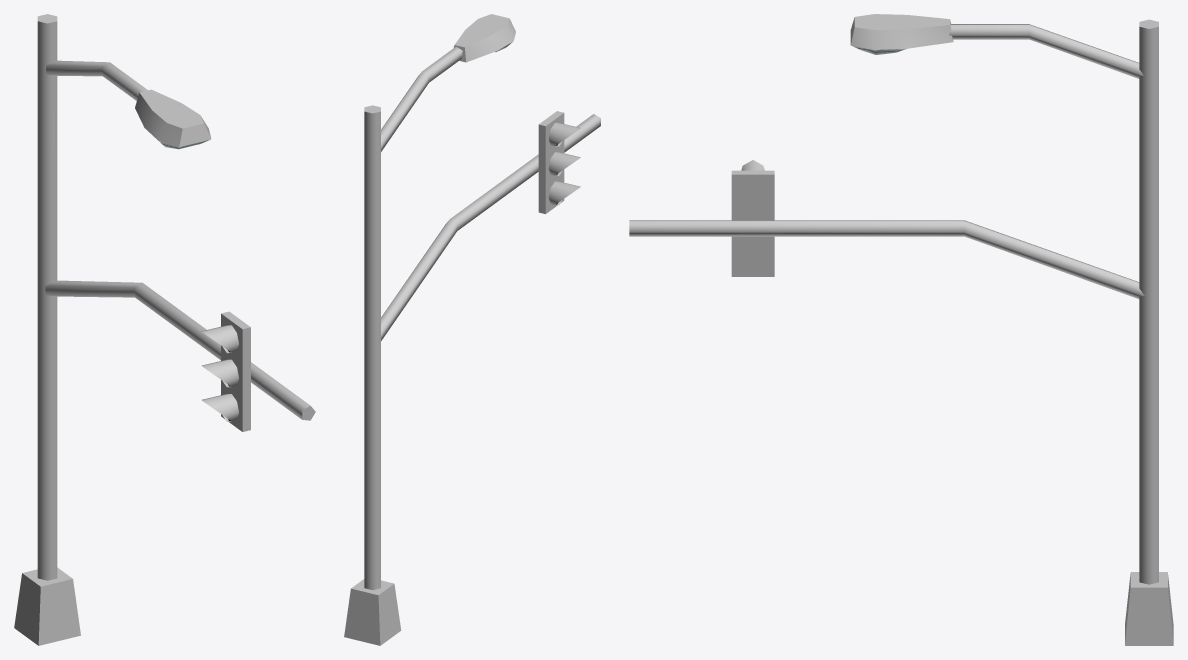
Rendered from trafficLight04.FBX.
3 renders of one model, left to right at view 1: azimuth 30°, elevation 25°; view 2: azimuth 150°, elevation 25°; view 3: azimuth 270°, elevation 25°, orthographic. The views are drawn at different scales.
Visible parts, largest first — view 1: trafficLight04, trafficLight; view 2: trafficLight04, trafficLight; view 3: trafficLight04, trafficLight.
Part boxes in pixels (x1=…): trafficLight04: x1=14, y1=14, x2=315, y2=645; trafficLight: x1=201, y1=311, x2=250, y2=431; trafficLight04: x1=344, y1=14, x2=600, y2=645; trafficLight: x1=538, y1=111, x2=580, y2=214; trafficLight04: x1=629, y1=14, x2=1173, y2=645; trafficLight: x1=731, y1=160, x2=774, y2=276.
Size of the model in its own units: 89.07 by 776 by 625.
